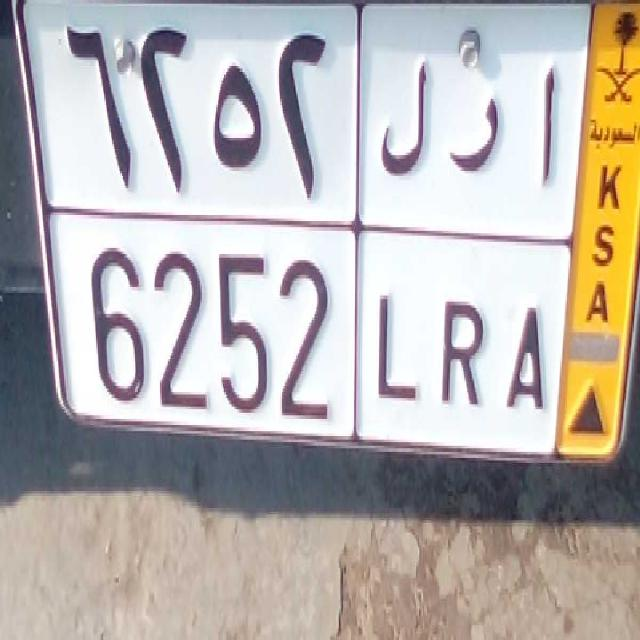license_plate: (52, 202, 554, 472)
